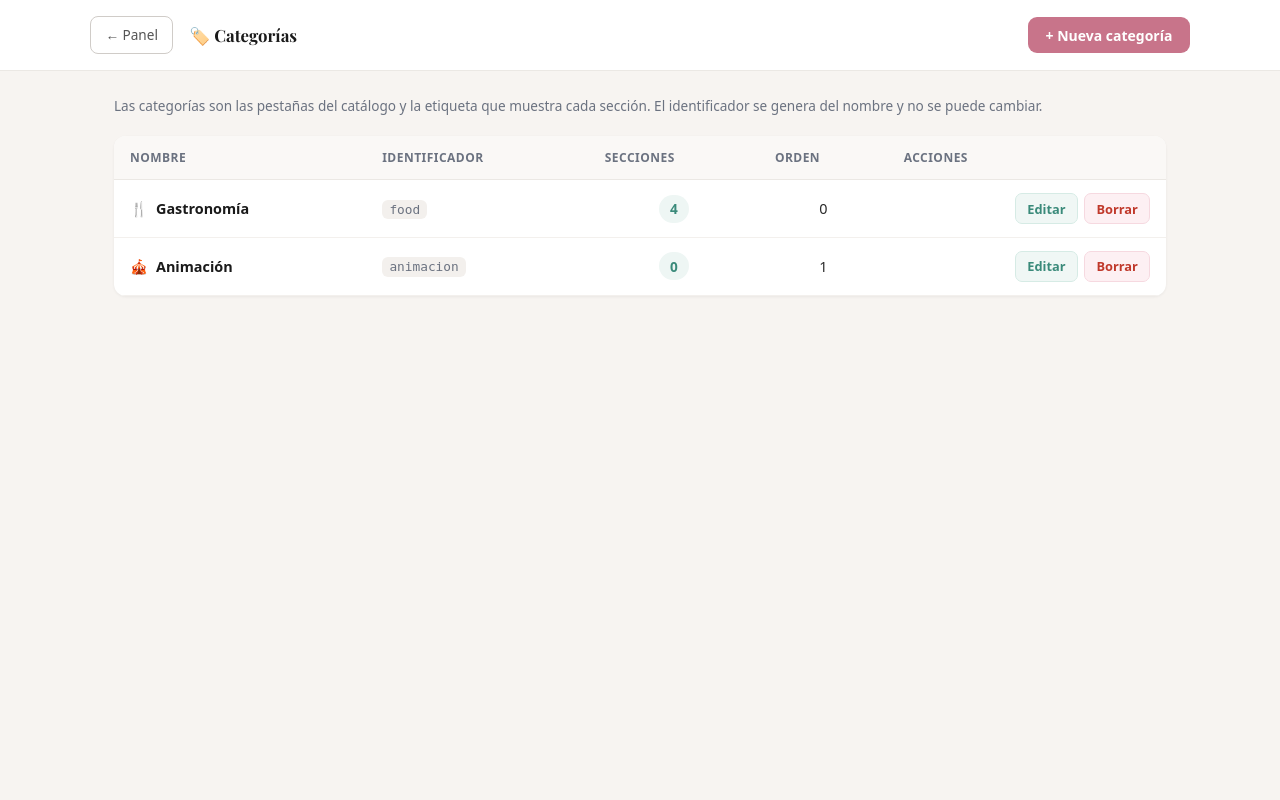
it: AdminCategoriesPage › muestra el identificador que se generará del nombre
Click the button with class "btn-add" at point(1109, 35), box left=1028, top=17, right=1190, bottom=53
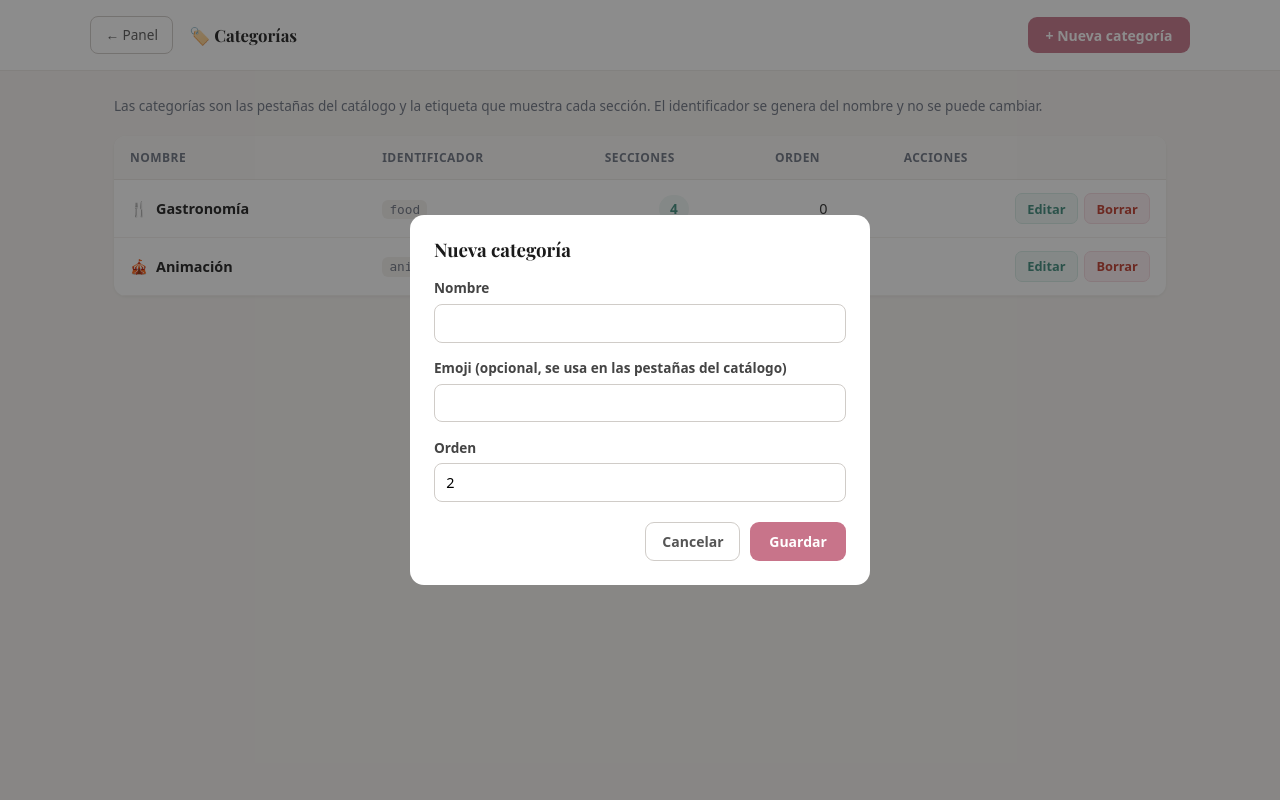
Type "Animación infantil" into the field labelled "Nombre" at point(640, 323), box left=434, top=304, right=846, bottom=343
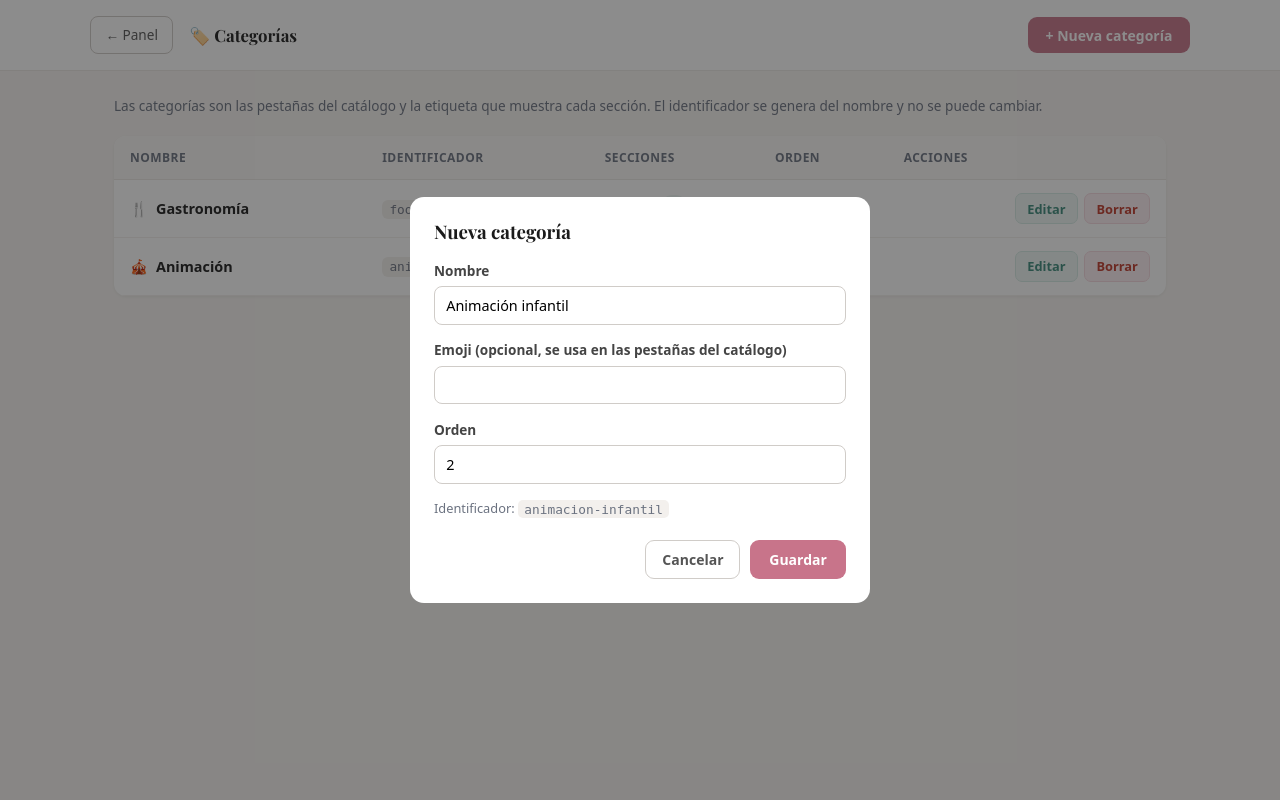
Now the element with class "form-hint" shows "animacion-infantil", box left=524, top=501, right=663, bottom=516
